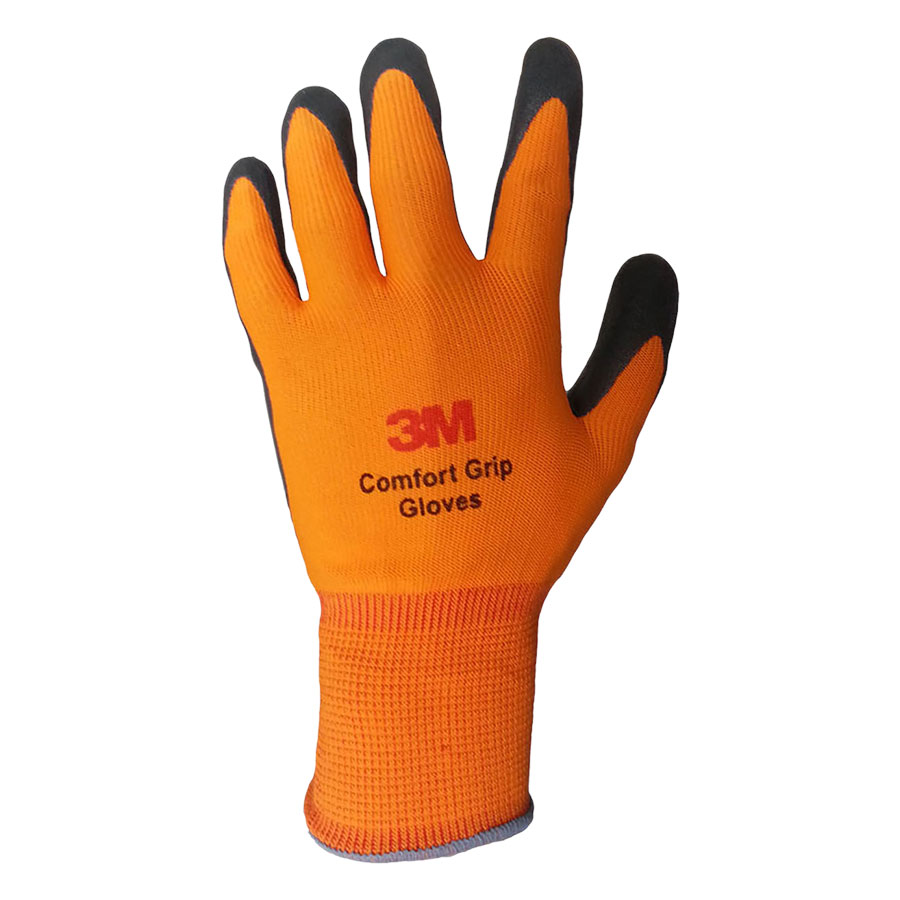3M: (373, 393, 486, 454)
